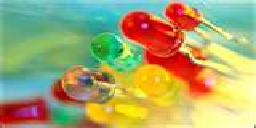LED: (121, 12, 189, 55), (89, 29, 137, 77), (129, 66, 187, 104), (61, 63, 108, 107), (162, 2, 212, 31)
